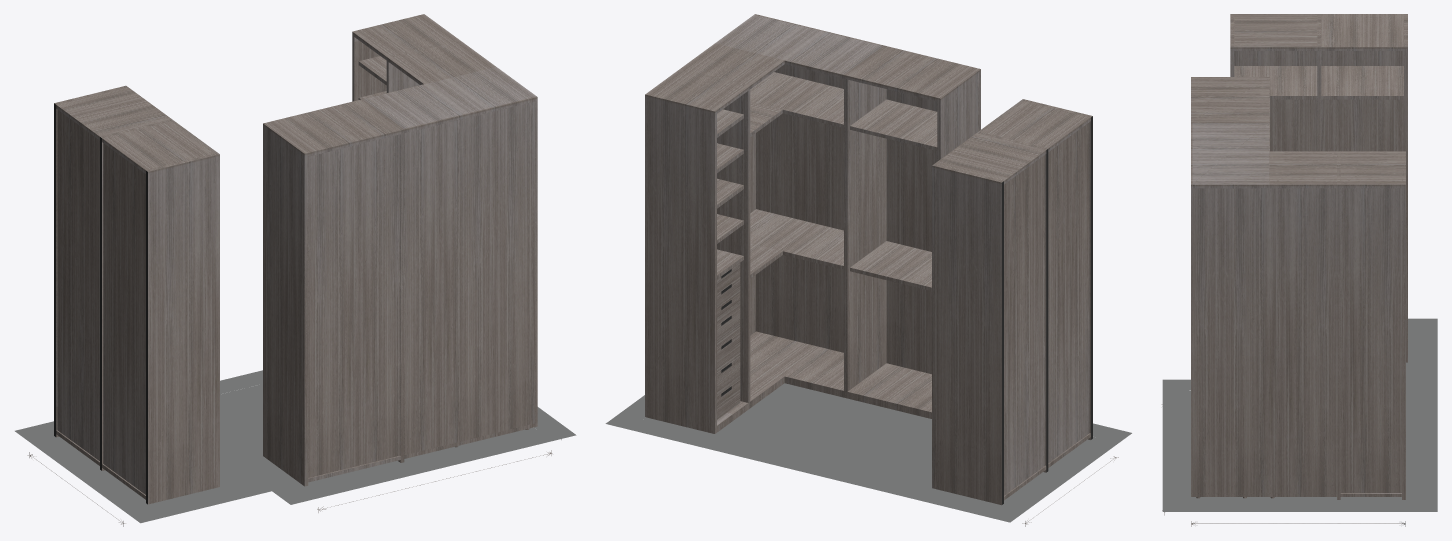
The model's file is B1A-SE-SW-PC-Drawers-SC.obj.
3 views of the same model, side by side, from view 1: azimuth 30°, elevation 25°; view 2: azimuth 150°, elevation 25°; view 3: azimuth 270°, elevation 25° (orthographic). The views are drawn at different scales.
Parts seen in each view (by area): view 1: Mesh53 B1A_SE_SW_PC_DXF1 Model, Mesh80 B1A_SE_SW_PC_DXF1 Model, Mesh1 B1A_SE_SW_PC_DXF1 Model, Mesh31 B1A_SE_SW_PC_DXF1 Model, Mesh89 B1A_SE_SW_PC_DXF1 Model, Mesh20 B1A_SE_SW_PC_DXF1 Model, Mesh6 B1A_SE_SW_PC_DXF1 Model, Mesh97 B1A_SE_SW_PC_DXF1 Model, Mesh5 B1A_SE_SW_PC_DXF1 Model, Mesh96 B1A_SE_SW_PC_DXF1 Model; view 2: Mesh31 B1A_SE_SW_PC_DXF1 Model, Mesh5 B1A_SE_SW_PC_DXF1 Model, Mesh53 B1A_SE_SW_PC_DXF1 Model, Mesh96 B1A_SE_SW_PC_DXF1 Model, Mesh6 B1A_SE_SW_PC_DXF1 Model, Mesh20 B1A_SE_SW_PC_DXF1 Model, Mesh80 B1A_SE_SW_PC_DXF1 Model, Mesh97 B1A_SE_SW_PC_DXF1 Model, Mesh46 B1A_SE_SW_PC_DXF1 Model, Mesh62 B1A_SE_SW_PC_DXF1 Model, Mesh60 B1A_SE_SW_PC_DXF1 Model, Mesh85 B1A_SE_SW_PC_DXF1 Model (+7 smaller); view 3: Mesh53 B1A_SE_SW_PC_DXF1 Model, Mesh34 B1A_SE_SW_PC_DXF1 Model, Mesh31 B1A_SE_SW_PC_DXF1 Model, Mesh97 B1A_SE_SW_PC_DXF1 Model, Mesh5 B1A_SE_SW_PC_DXF1 Model, Mesh20 B1A_SE_SW_PC_DXF1 Model, Mesh6 B1A_SE_SW_PC_DXF1 Model, Mesh21 B1A_SE_SW_PC_DXF1 Model, Mesh10 B1A_SE_SW_PC_DXF1 Model, Mesh96 B1A_SE_SW_PC_DXF1 Model, Mesh46 B1A_SE_SW_PC_DXF1 Model.
Part boxes in pixels (bbox=[...]): Mesh53 B1A_SE_SW_PC_DXF1 Model: bbox=[404, 101, 537, 455]; Mesh80 B1A_SE_SW_PC_DXF1 Model: bbox=[308, 134, 400, 477]; Mesh1 B1A_SE_SW_PC_DXF1 Model: bbox=[146, 153, 219, 504]; Mesh31 B1A_SE_SW_PC_DXF1 Model: bbox=[267, 14, 537, 462]; Mesh89 B1A_SE_SW_PC_DXF1 Model: bbox=[263, 122, 308, 486]; Mesh20 B1A_SE_SW_PC_DXF1 Model: bbox=[57, 109, 99, 460]; Mesh6 B1A_SE_SW_PC_DXF1 Model: bbox=[103, 143, 145, 494]; Mesh97 B1A_SE_SW_PC_DXF1 Model: bbox=[15, 370, 576, 523]; Mesh5 B1A_SE_SW_PC_DXF1 Model: bbox=[54, 85, 217, 470]; Mesh96 B1A_SE_SW_PC_DXF1 Model: bbox=[53, 384, 537, 506]; Mesh31 B1A_SE_SW_PC_DXF1 Model: bbox=[645, 14, 976, 433]; Mesh5 B1A_SE_SW_PC_DXF1 Model: bbox=[932, 100, 1090, 505]; Mesh53 B1A_SE_SW_PC_DXF1 Model: bbox=[750, 64, 843, 352]; Mesh96 B1A_SE_SW_PC_DXF1 Model: bbox=[643, 383, 1094, 506]; Mesh6 B1A_SE_SW_PC_DXF1 Model: bbox=[1048, 122, 1089, 462]; Mesh20 B1A_SE_SW_PC_DXF1 Model: bbox=[1004, 155, 1045, 495]; Mesh80 B1A_SE_SW_PC_DXF1 Model: bbox=[886, 89, 937, 374]; Mesh97 B1A_SE_SW_PC_DXF1 Model: bbox=[605, 395, 1131, 522]; Mesh46 B1A_SE_SW_PC_DXF1 Model: bbox=[750, 331, 843, 400]; Mesh62 B1A_SE_SW_PC_DXF1 Model: bbox=[750, 209, 843, 269]; Mesh60 B1A_SE_SW_PC_DXF1 Model: bbox=[750, 72, 843, 128]; Mesh85 B1A_SE_SW_PC_DXF1 Model: bbox=[850, 99, 937, 150]; Mesh53 B1A_SE_SW_PC_DXF1 Model: bbox=[1191, 188, 1336, 493]; Mesh34 B1A_SE_SW_PC_DXF1 Model: bbox=[1340, 188, 1401, 492]; Mesh31 B1A_SE_SW_PC_DXF1 Model: bbox=[1191, 78, 1405, 499]; Mesh97 B1A_SE_SW_PC_DXF1 Model: bbox=[1162, 318, 1437, 511]; Mesh5 B1A_SE_SW_PC_DXF1 Model: bbox=[1234, 14, 1407, 362]; Mesh20 B1A_SE_SW_PC_DXF1 Model: bbox=[1321, 51, 1403, 151]; Mesh6 B1A_SE_SW_PC_DXF1 Model: bbox=[1234, 51, 1317, 151]; Mesh21 B1A_SE_SW_PC_DXF1 Model: bbox=[1321, 66, 1403, 99]; Mesh10 B1A_SE_SW_PC_DXF1 Model: bbox=[1234, 66, 1317, 99]; Mesh96 B1A_SE_SW_PC_DXF1 Model: bbox=[1189, 330, 1411, 500]; Mesh46 B1A_SE_SW_PC_DXF1 Model: bbox=[1191, 493, 1336, 496].
Size of the model in its own units: 138 by 109 by 82.19.
Materials: 3 (1 with a texture image).
